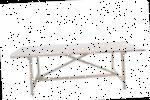Mesa: (9, 40, 146, 97)
